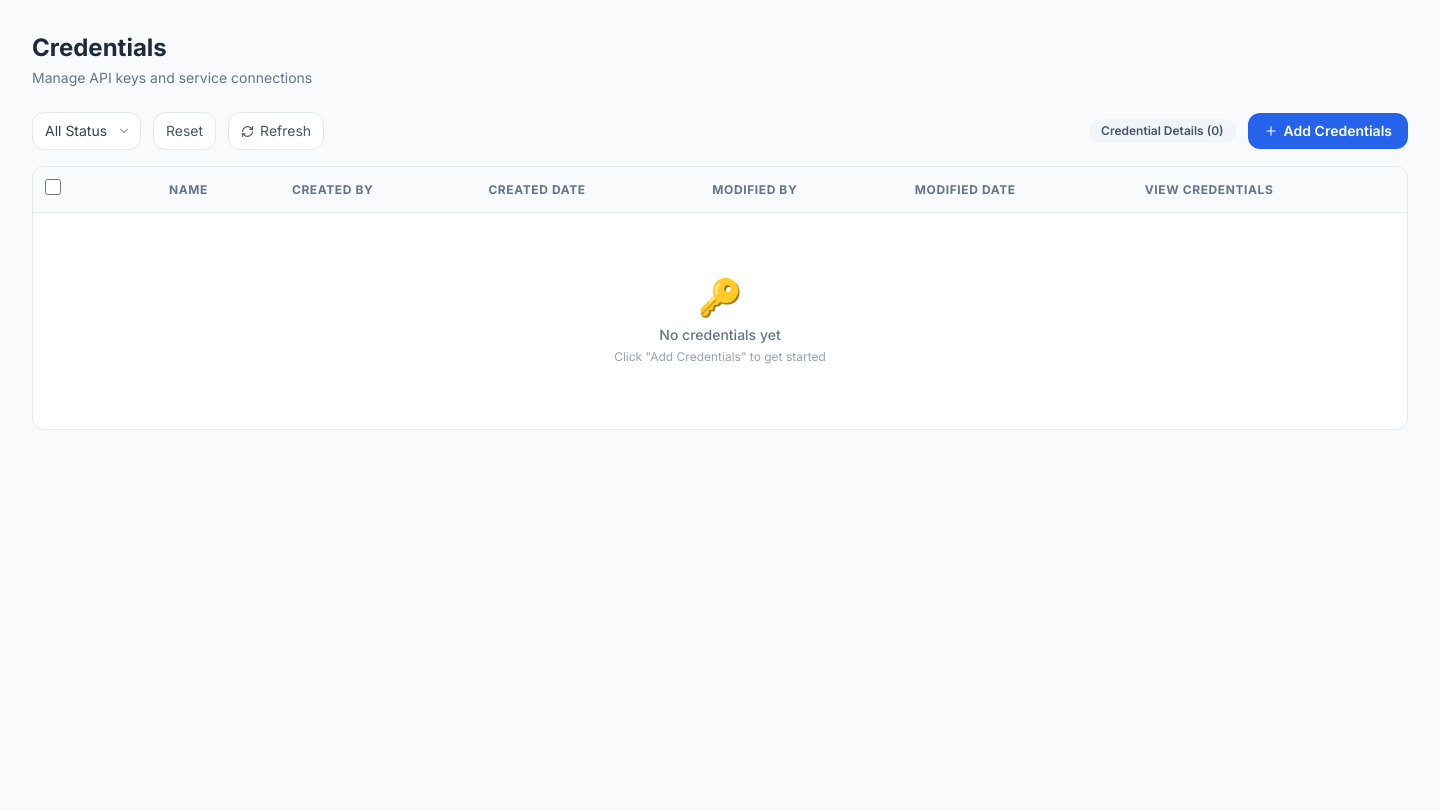
CredentialsPage › opens Add Credential modal on button click
The image size is (1440, 810).
Click the button "Add Credentials" at (1328, 131), box [1248, 113, 1408, 149]
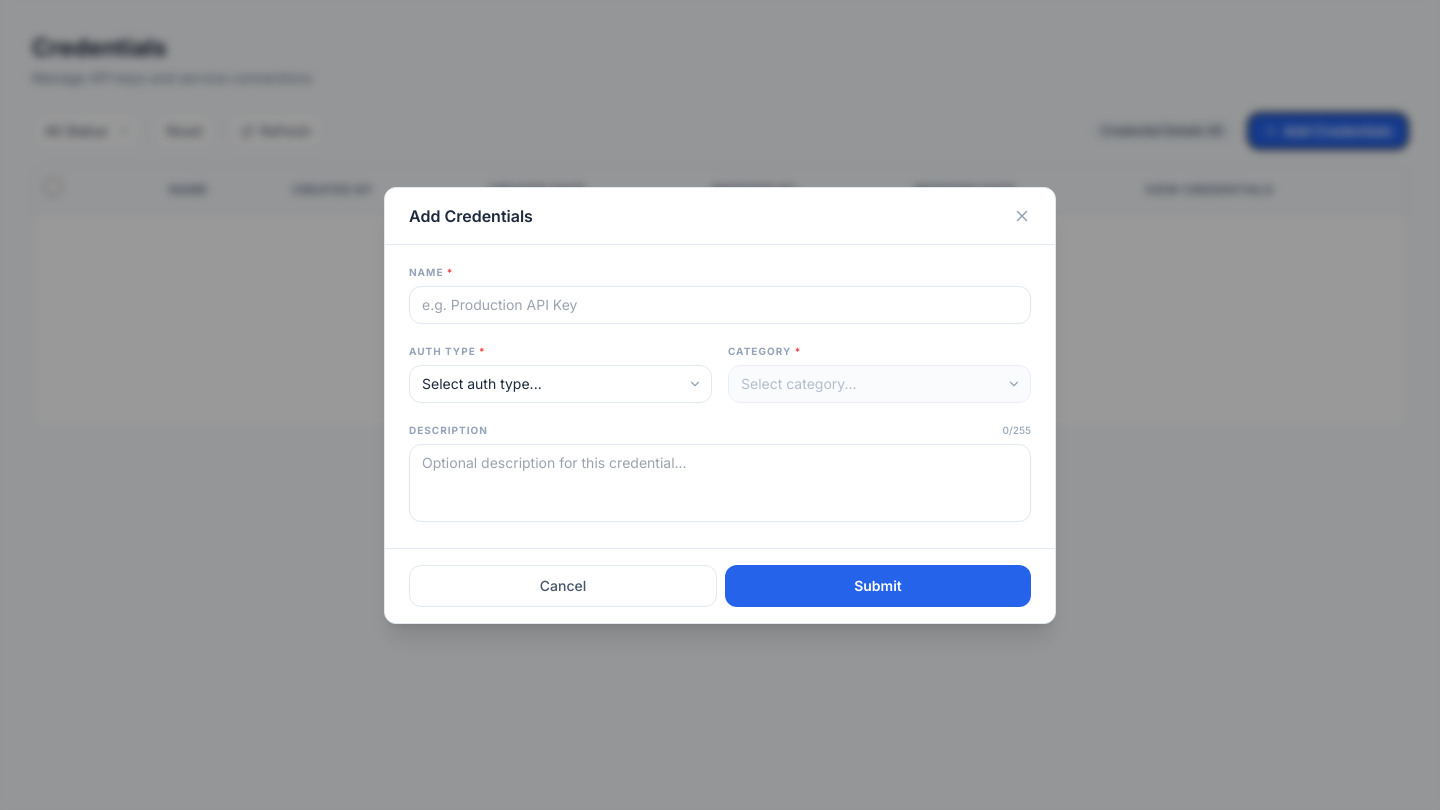
Check: the field with placeholder "e.g. Production API Key" is shown, box [409, 286, 1031, 324]
